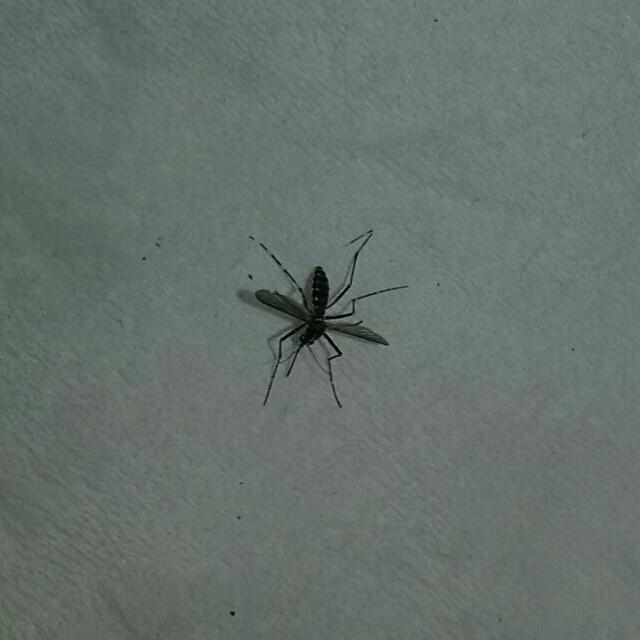albopictus: (236, 218, 413, 414)
